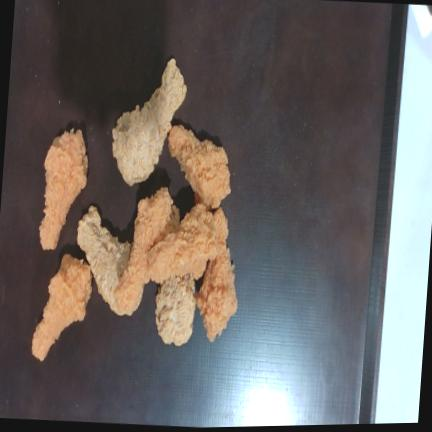chicken: (112, 58, 186, 185), (114, 187, 179, 315), (147, 204, 228, 282), (32, 253, 91, 360), (77, 205, 131, 314), (39, 129, 87, 249), (168, 125, 230, 208), (196, 244, 237, 341), (155, 273, 195, 345)
